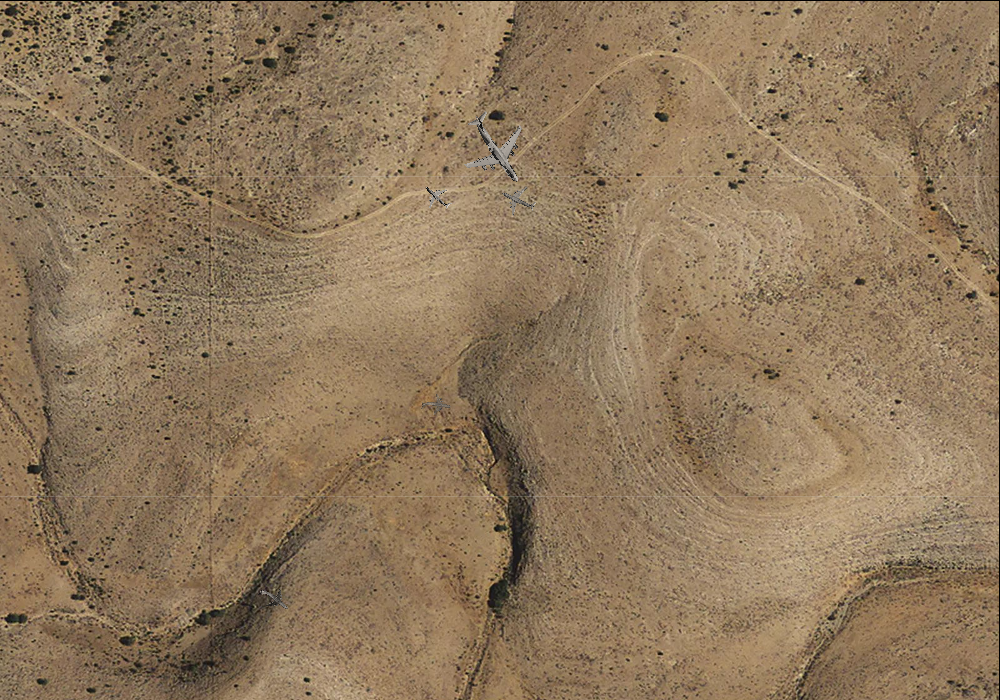plane: (444, 95, 548, 201), (495, 176, 542, 222), (251, 578, 294, 621), (417, 176, 458, 217), (419, 390, 453, 421)
